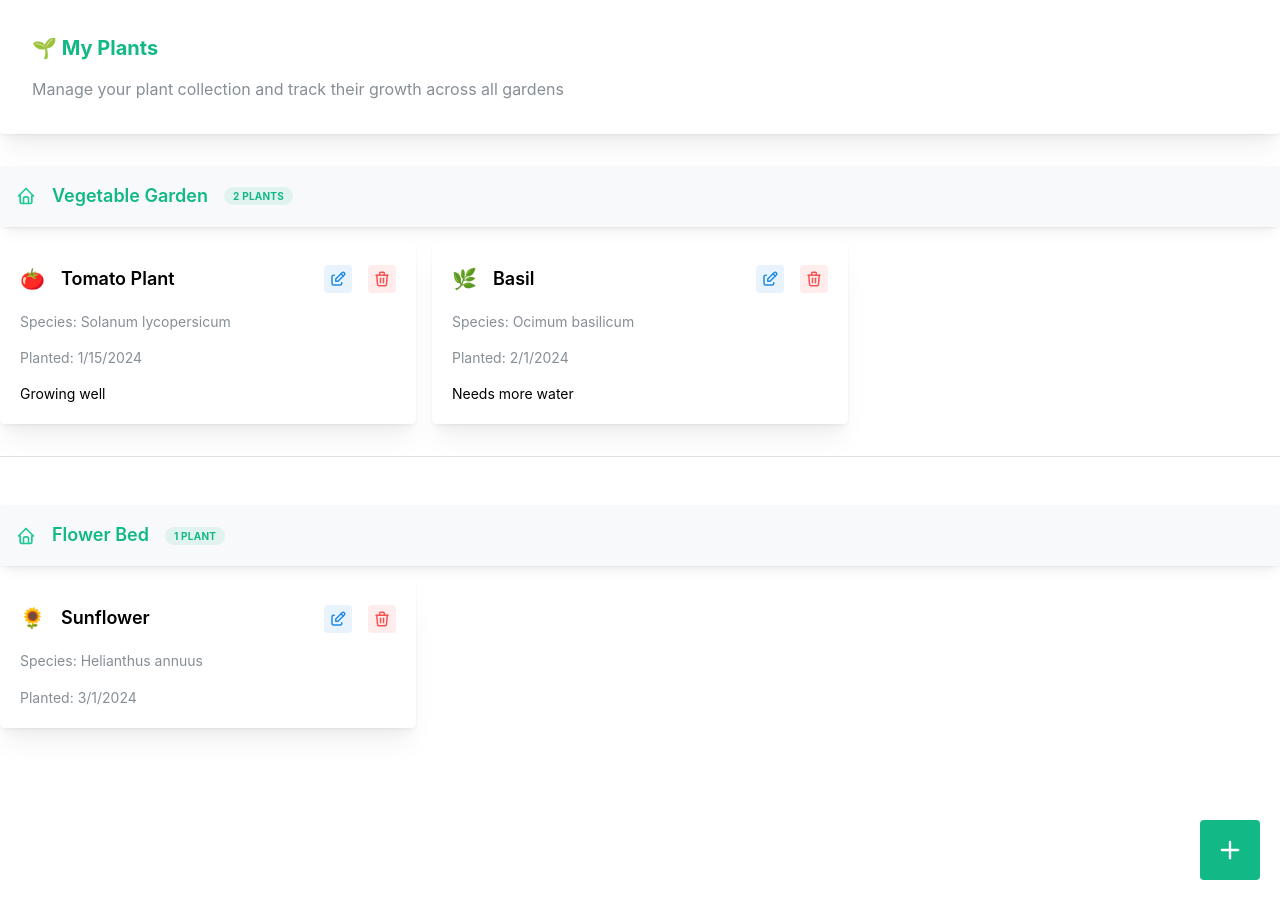
it: PlantList Component › Add Plant Modal › opens add plant modal when clicking add button
Check: the text "🌱 My Plants" is shown, box 32,36 -> 158,60
Click the 7th button: x=1230, y=850 1200,820 -> 1260,880
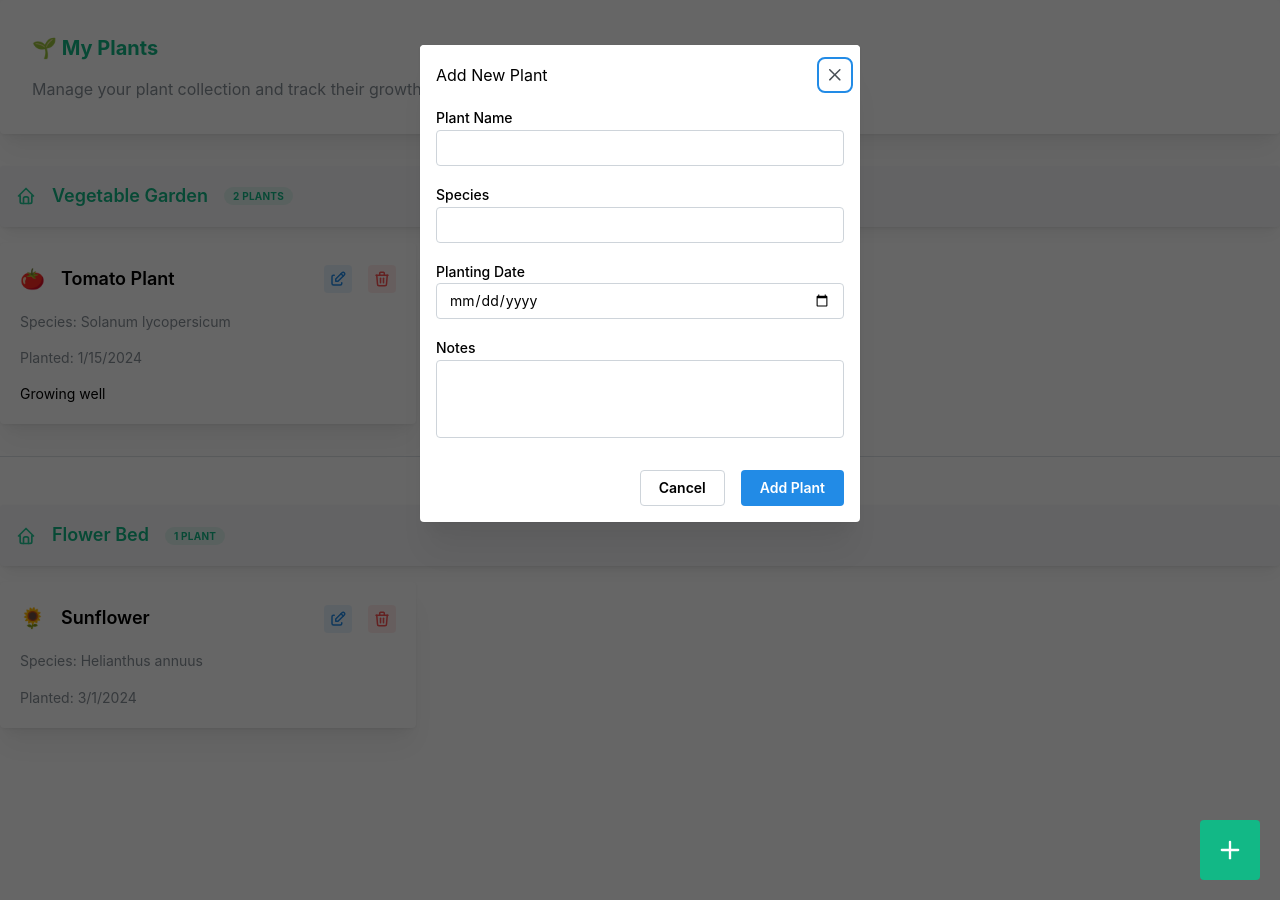
Check: the heading "Add New Plant" is shown, box 436,67 -> 548,83
Check: the field labelled "Plant Name" is shown, box 436,130 -> 844,166
Check: the field labelled "Species" is shown, box 436,207 -> 844,243
